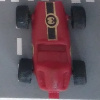carro: (18, 2, 86, 96)
